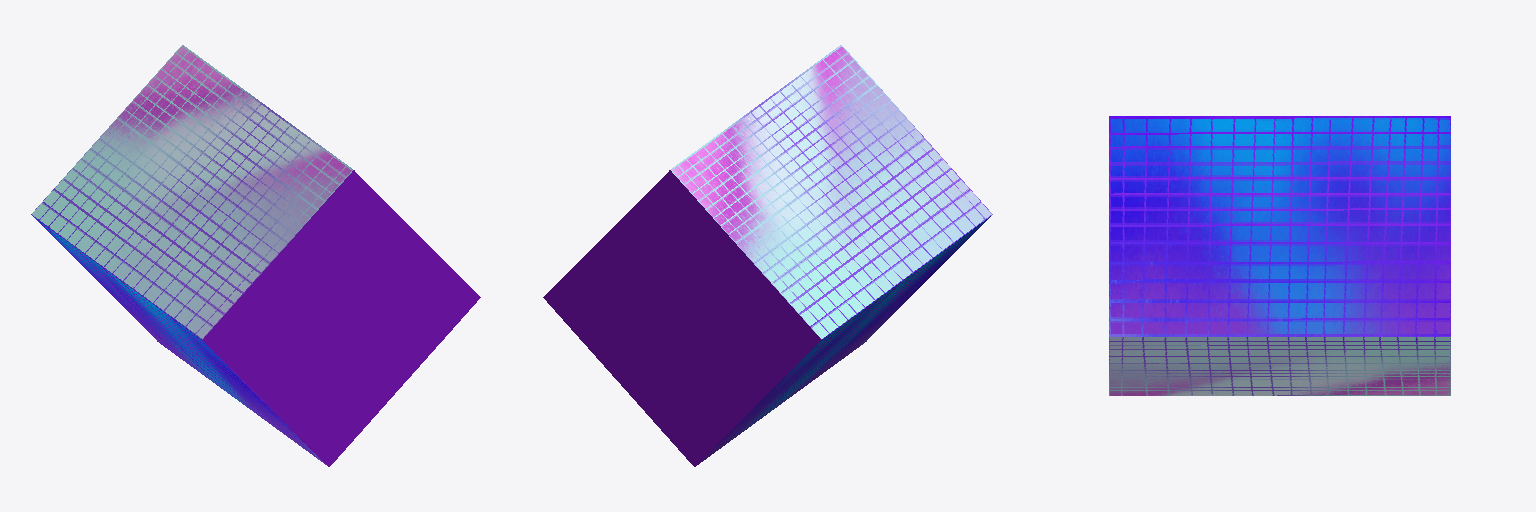
3 renders of one model, left to right at view 1: azimuth 30°, elevation 25°; view 2: azimuth 150°, elevation 25°; view 3: azimuth 270°, elevation 25°, orthographic.
Parts seen in each view (by area): view 1: Build_B_Top; view 2: Build_B_Top; view 3: Build_B_Top.
Part boxes in pixels (bbox=[...]): Build_B_Top: bbox=[31, 45, 480, 466]; Build_B_Top: bbox=[543, 45, 992, 466]; Build_B_Top: bbox=[1109, 116, 1450, 395].
Bounding box in the file's own units: 0.372 × 0.3719 × 0.396.
Materials: 1 (1 with a texture image).